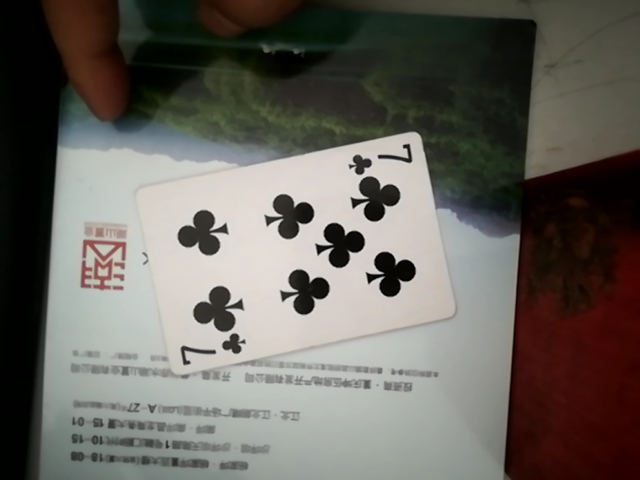mh 7: (111, 128, 450, 382)
